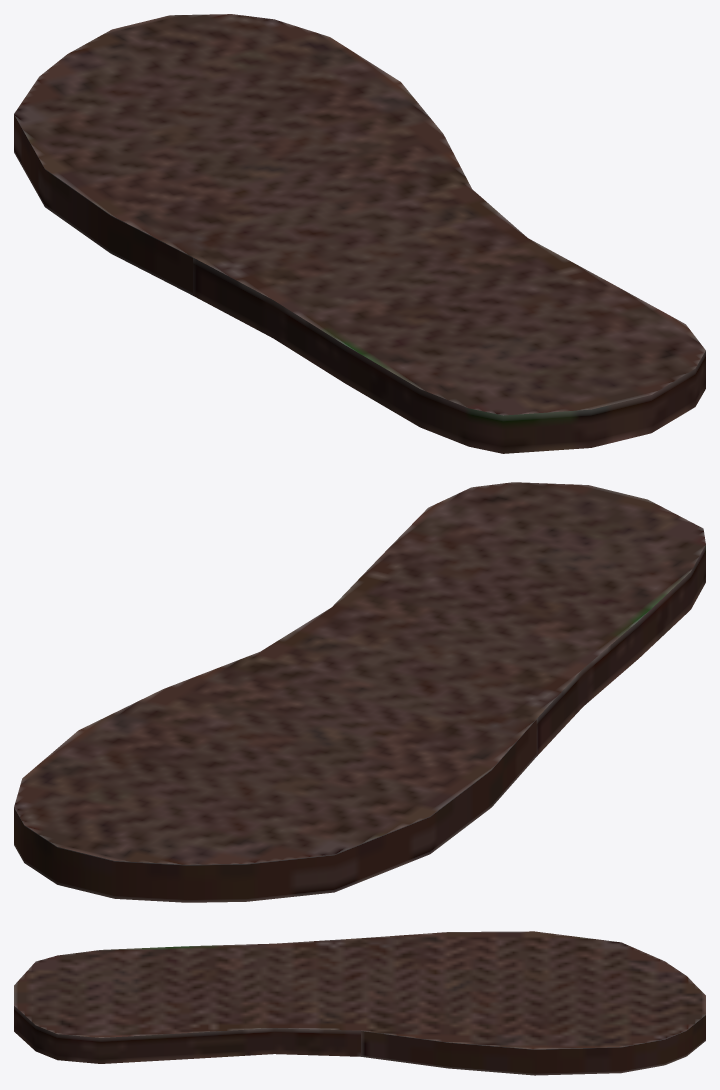
Rendered from flipflops01.FBX.
3 views of the same model, one above another, from view 1: azimuth 30°, elevation 25°; view 2: azimuth 150°, elevation 25°; view 3: azimuth 270°, elevation 25° (orthographic). The views are drawn at different scales.
Parts seen in each view (by area): view 1: SM_FlipFlops01; view 2: SM_FlipFlops01; view 3: SM_FlipFlops01.
Part boxes in pixels (box(x1,y1,x2,y2)): SM_FlipFlops01: box(14, 14, 705, 453); SM_FlipFlops01: box(14, 482, 705, 902); SM_FlipFlops01: box(14, 931, 705, 1075).
Size of the model in its own units: 12.63 by 1.3 by 31.29.
1 material, 1 textured.
